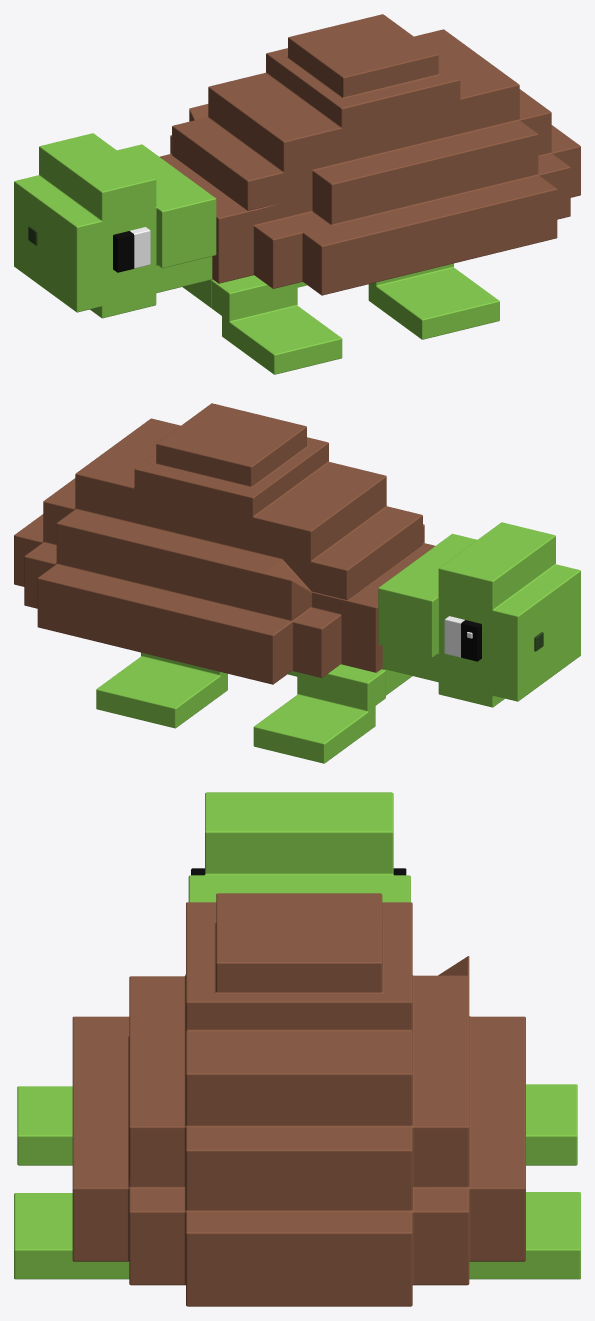
3 views of the same model, one above another, from view 1: azimuth 30°, elevation 25°; view 2: azimuth 150°, elevation 25°; view 3: azimuth 270°, elevation 25° (orthographic). The views are drawn at different scales.
Visible parts, largest first — view 1: BipJamExport_turtle; view 2: BipJamExport_turtle; view 3: BipJamExport_turtle.
Part boxes in pixels (x1,y1,x2,y2): BipJamExport_turtle: [14, 14, 580, 374]; BipJamExport_turtle: [14, 403, 580, 763]; BipJamExport_turtle: [14, 792, 580, 1306].
Bounding box in the file's own units: 1.01 × 0.4163 × 0.6643.
